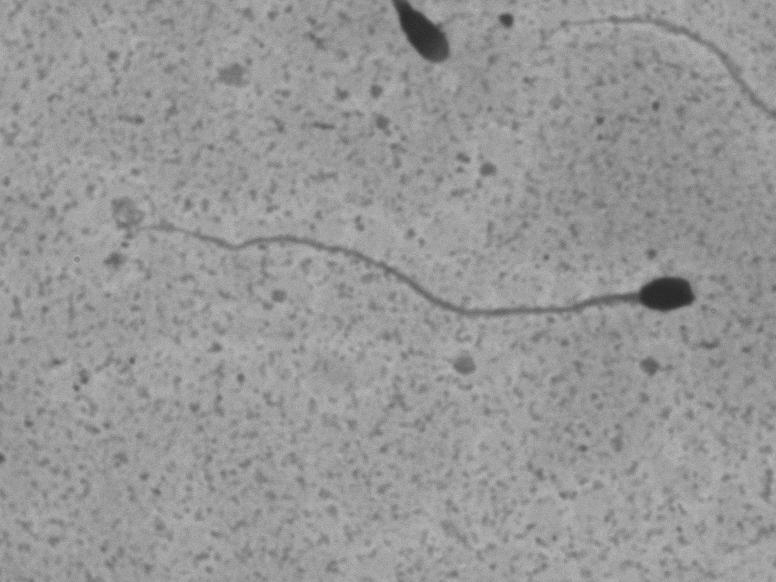Abnormal: (120, 205, 700, 343)
